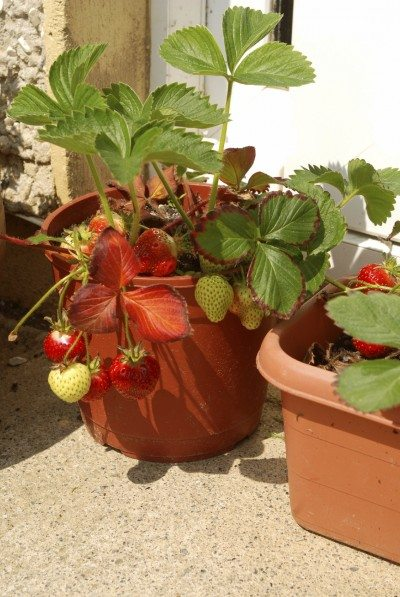ripe_strawberry: (111, 350, 163, 403), (133, 227, 180, 279), (43, 326, 91, 365), (81, 358, 112, 406), (355, 263, 398, 293), (350, 337, 391, 359)
unripe_strawberry: (193, 274, 235, 324), (48, 361, 94, 406), (230, 278, 267, 332)
